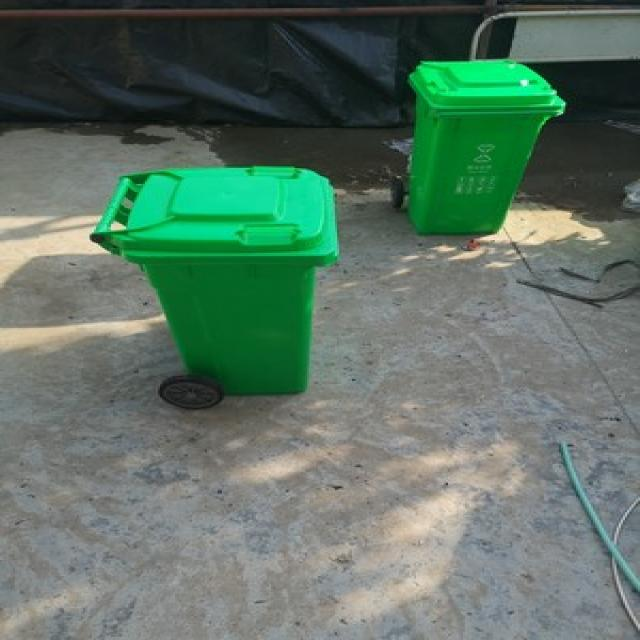ash bin: (88, 162, 337, 408), (384, 58, 563, 234)
